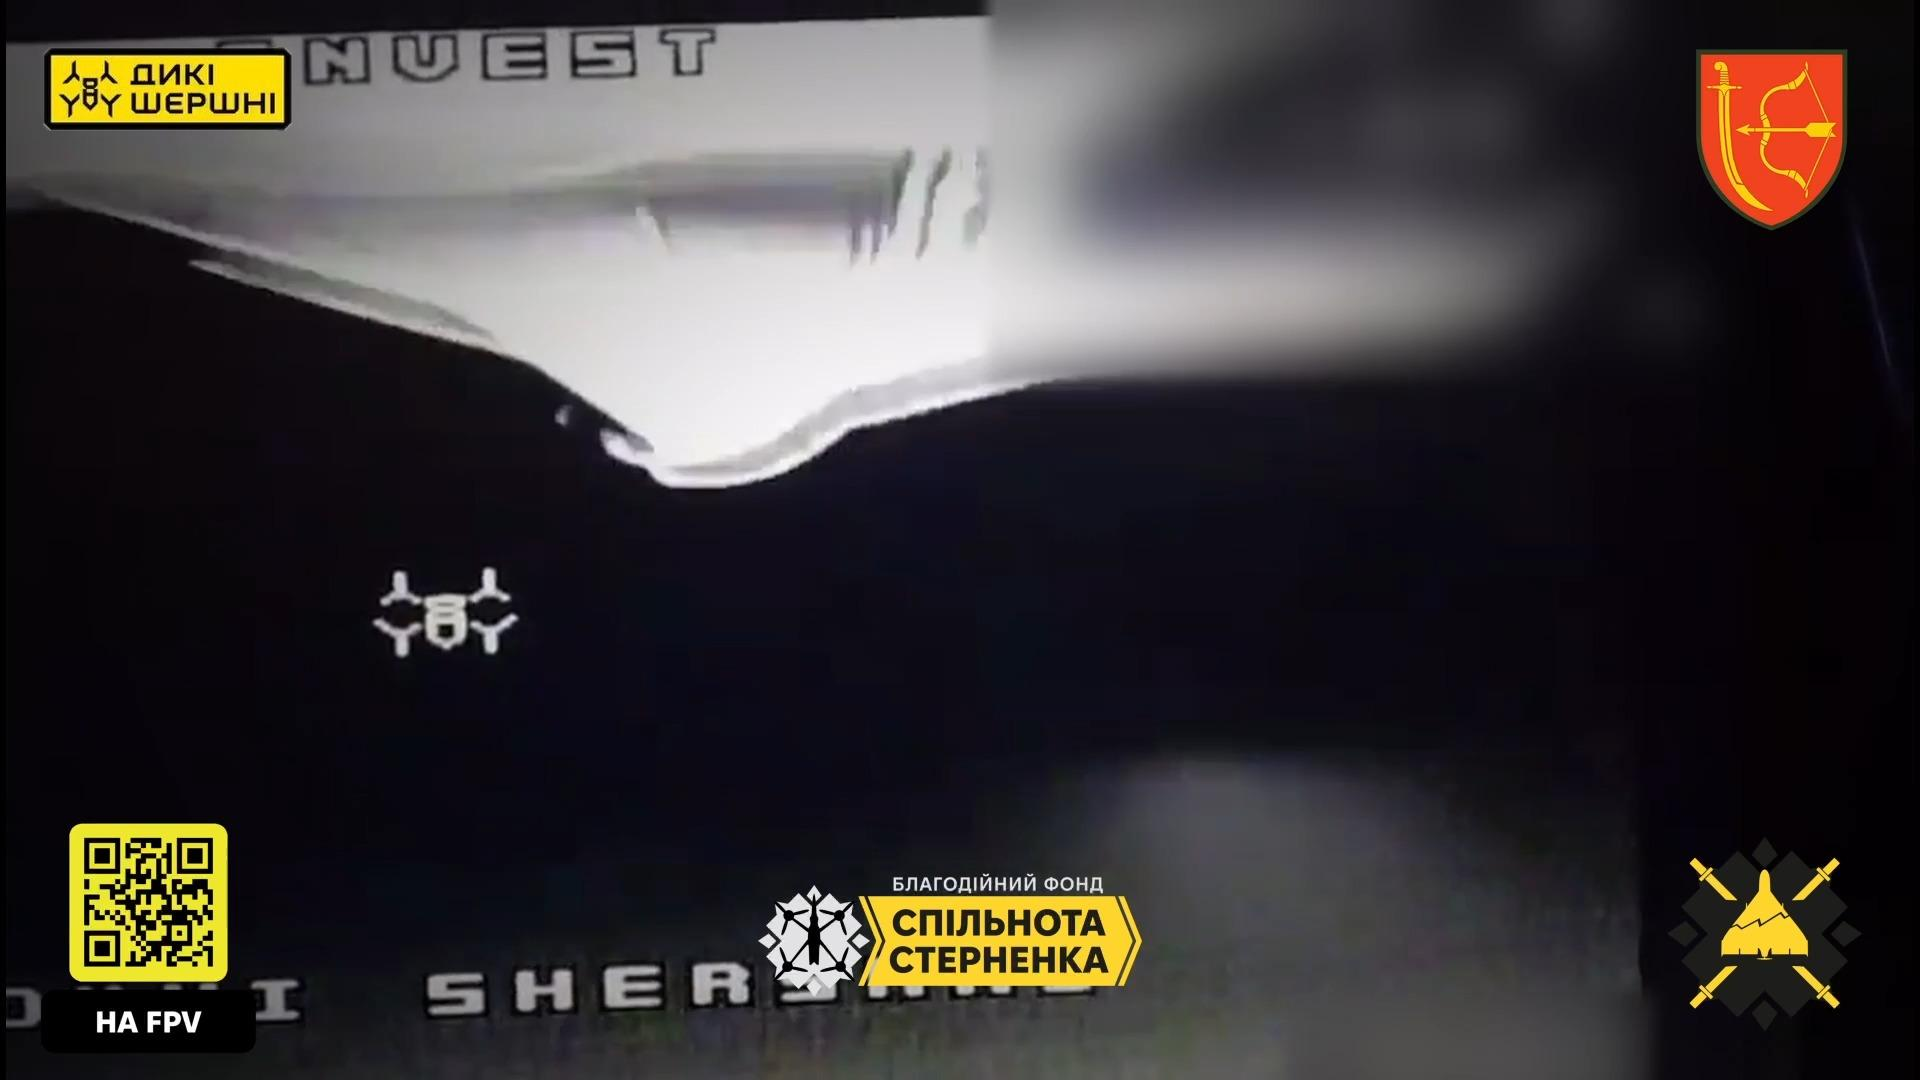Gerbera: (0, 5, 1656, 498)
